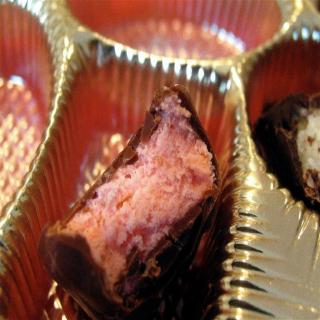Muffin: (41, 81, 230, 317)
